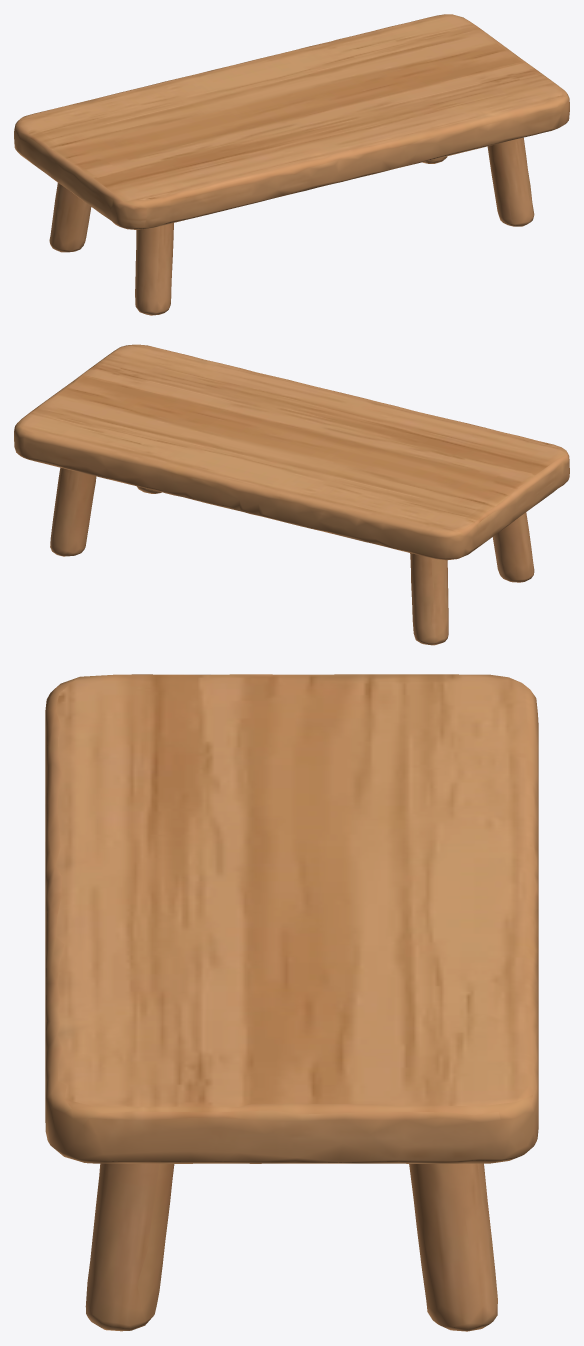
Rendered from table.glb.
3 renders of one model, top to bottom at view 1: azimuth 30°, elevation 25°; view 2: azimuth 150°, elevation 25°; view 3: azimuth 270°, elevation 25°, orthographic. The views are drawn at different scales.
Size of the model in its own units: 1.01 by 0.27 by 0.4751.
Materials: 1 (1 with a texture image).
